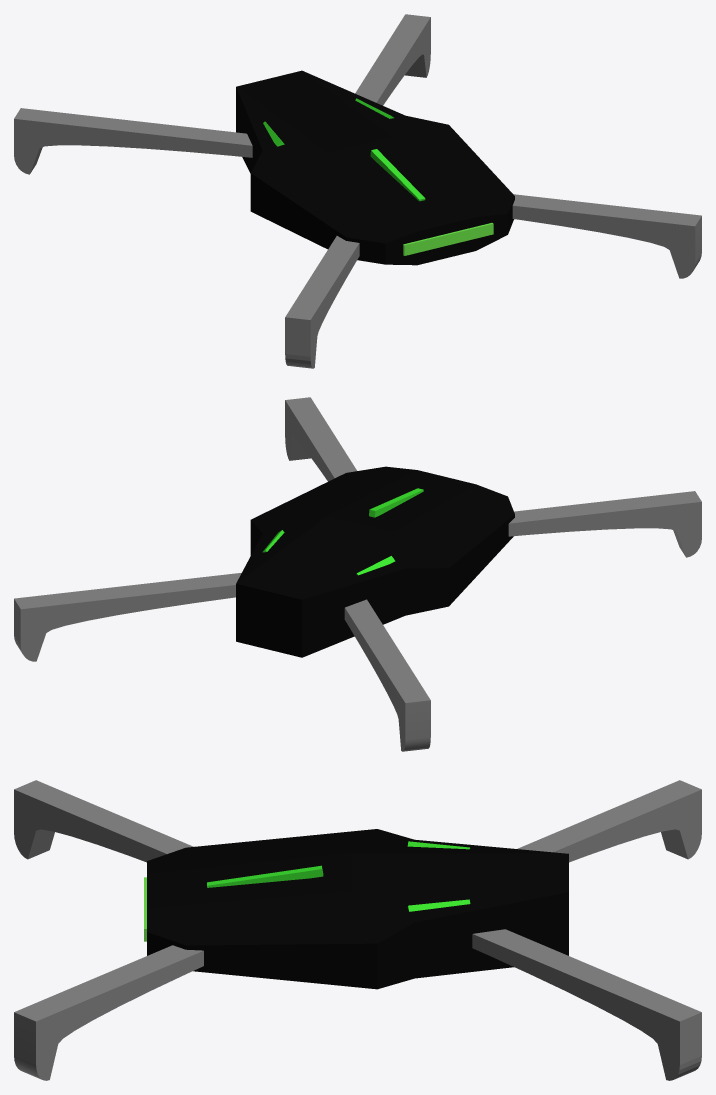
The model's file is drone-frame.glb.
The picture shows the model from 3 angles, top to bottom: view 1: azimuth 30°, elevation 25°; view 2: azimuth 150°, elevation 25°; view 3: azimuth 270°, elevation 25°; orthographic projection. The views are drawn at different scales.
Visible parts, largest first — view 1: frame; view 2: frame; view 3: frame.
Boxes of the visible parts, x1,y1,x2,y2 form: frame: (14, 14, 701, 368); frame: (14, 397, 701, 751); frame: (14, 780, 701, 1080).
Size of the model in its own units: 0.4207 by 0.0798 by 0.5065.
